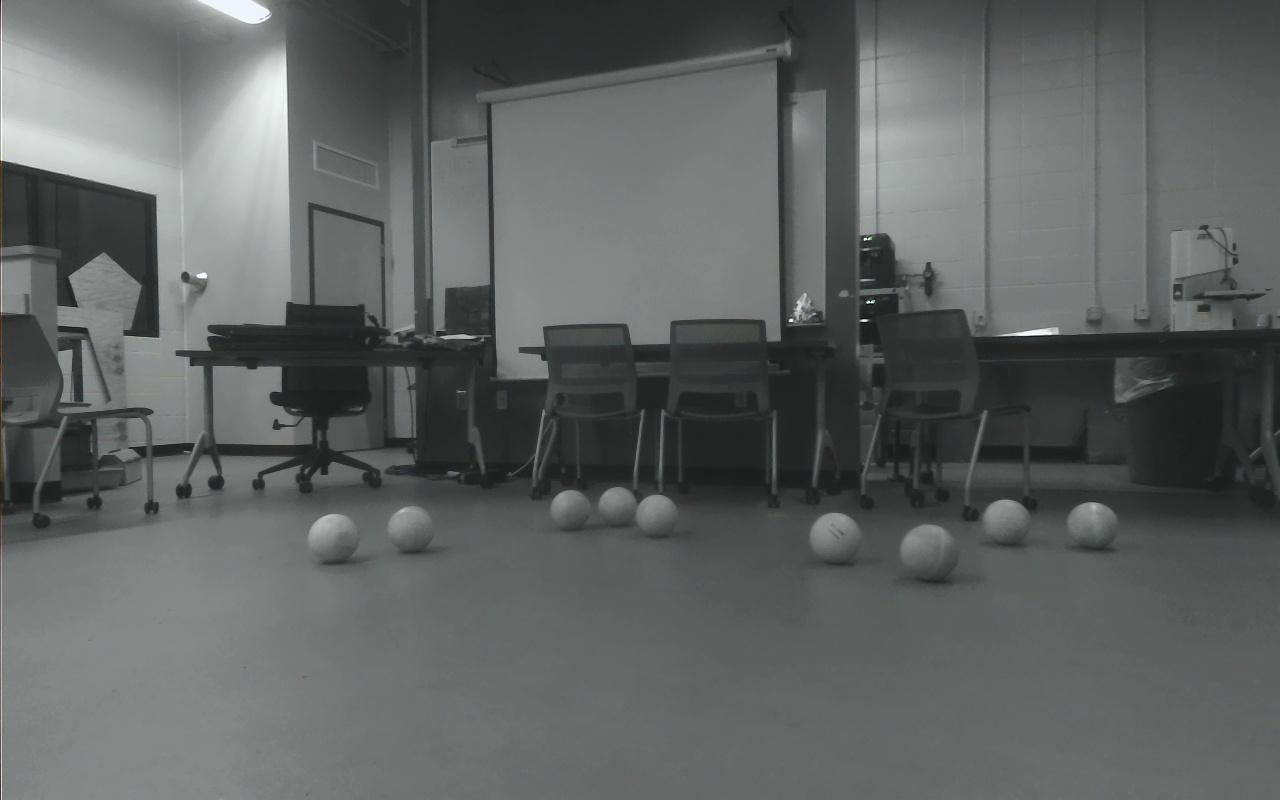Fuel: (899, 523, 959, 582), (809, 513, 861, 564), (307, 513, 360, 562), (1066, 502, 1119, 550), (982, 499, 1032, 546), (388, 506, 434, 553), (636, 495, 678, 538), (550, 490, 590, 531), (598, 487, 637, 527)
